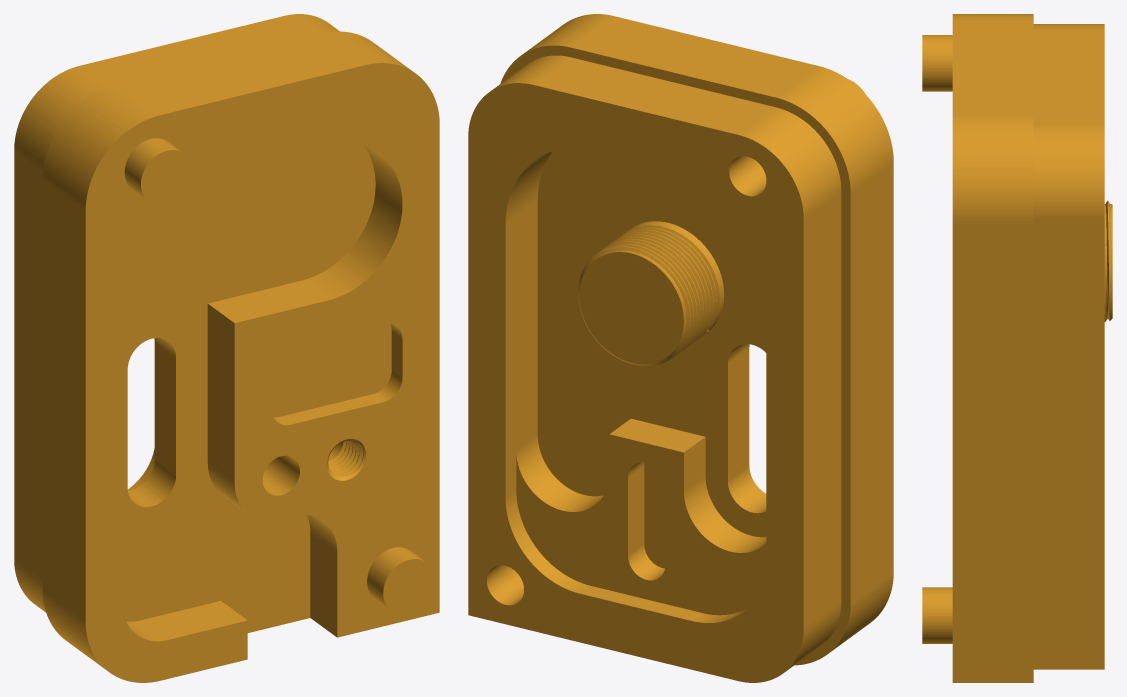
The picture shows the model from 3 angles, left to right: view 1: azimuth 30°, elevation 25°; view 2: azimuth 150°, elevation 25°; view 3: azimuth 270°, elevation 25°; orthographic projection. The views are drawn at different scales.
Size of the model in its own units: 95 by 145 by 47.
